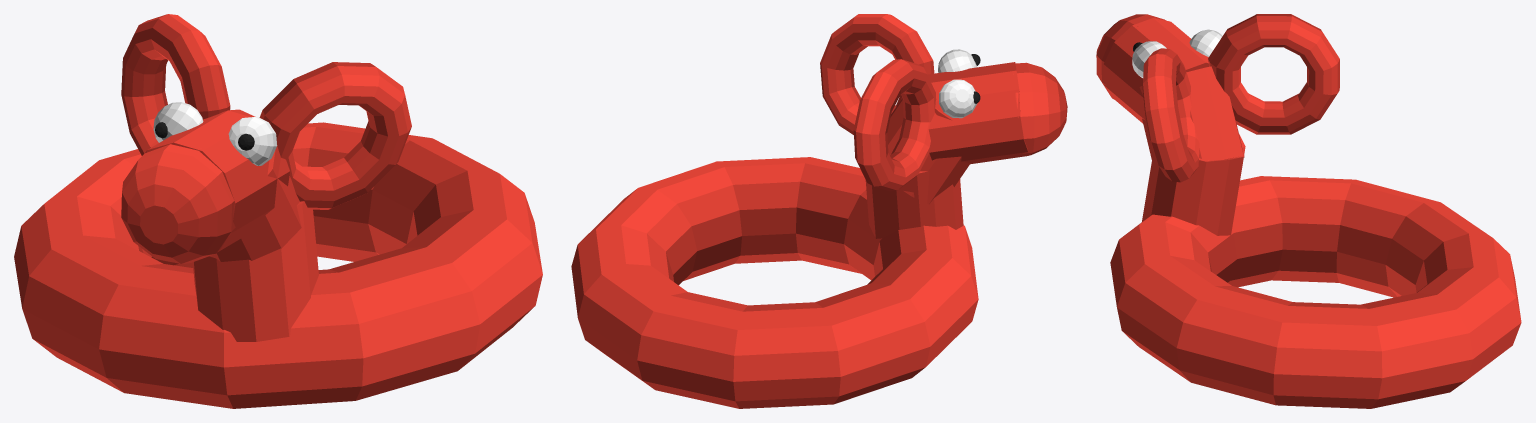
The picture shows the model from 3 angles, left to right: view 1: azimuth 30°, elevation 25°; view 2: azimuth 150°, elevation 25°; view 3: azimuth 270°, elevation 25°; orthographic projection. The views are drawn at different scales.
Visible parts, largest first — view 1: group1128786684, group299848747; view 2: group1128786684, group299848747; view 3: group1128786684, group299848747.
Boxes of the visible parts, <box> form: group1128786684: <box>14,14,542,408</box>; group299848747: <box>153,102,277,165</box>; group1128786684: <box>571,14,1067,408</box>; group299848747: <box>938,49,977,118</box>; group1128786684: <box>1096,14,1521,408</box>; group299848747: <box>1132,29,1222,77</box>.
Bounding box in the file's own units: 1.64 × 1.18 × 1.59.
